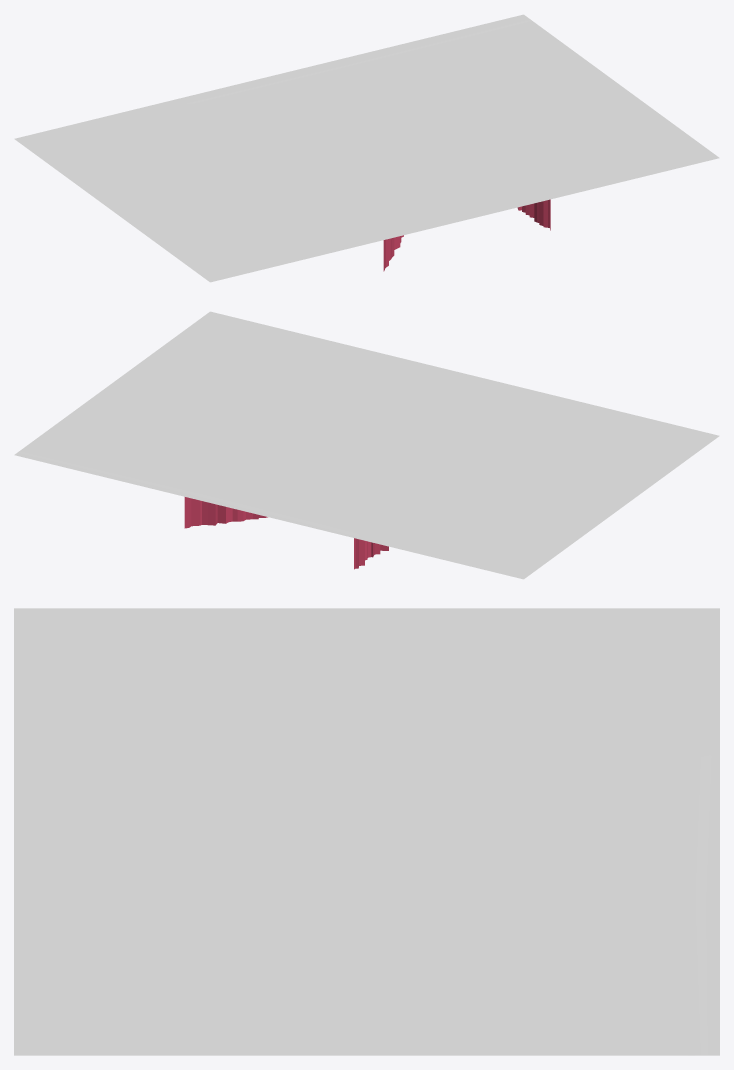
Rendered from icepre.fbx.
3 views of the same model, one above another, from view 1: azimuth 30°, elevation 25°; view 2: azimuth 150°, elevation 25°; view 3: azimuth 270°, elevation 25° (orthographic). The views are drawn at different scales.
Parts seen in each view (by area): view 1: Left, Right, Main; view 2: Left, Right, Main; view 3: Left, Right, Main.
Boxes of the visible parts, x1=… form: Left: x1=14, y1=97, x2=415, y2=282; Right: x1=319, y1=14, x2=719, y2=226; Main: x1=184, y1=56, x2=550, y2=270; Left: x1=354, y1=393, x2=719, y2=579; Right: x1=14, y1=311, x2=379, y2=525; Main: x1=184, y1=353, x2=545, y2=569; Left: x1=14, y1=608, x2=719, y2=830; Right: x1=14, y1=832, x2=719, y2=1055; Main: x1=14, y1=751, x2=719, y2=909.
Bounding box in the file's own units: 8400 × 501 × 5600.
